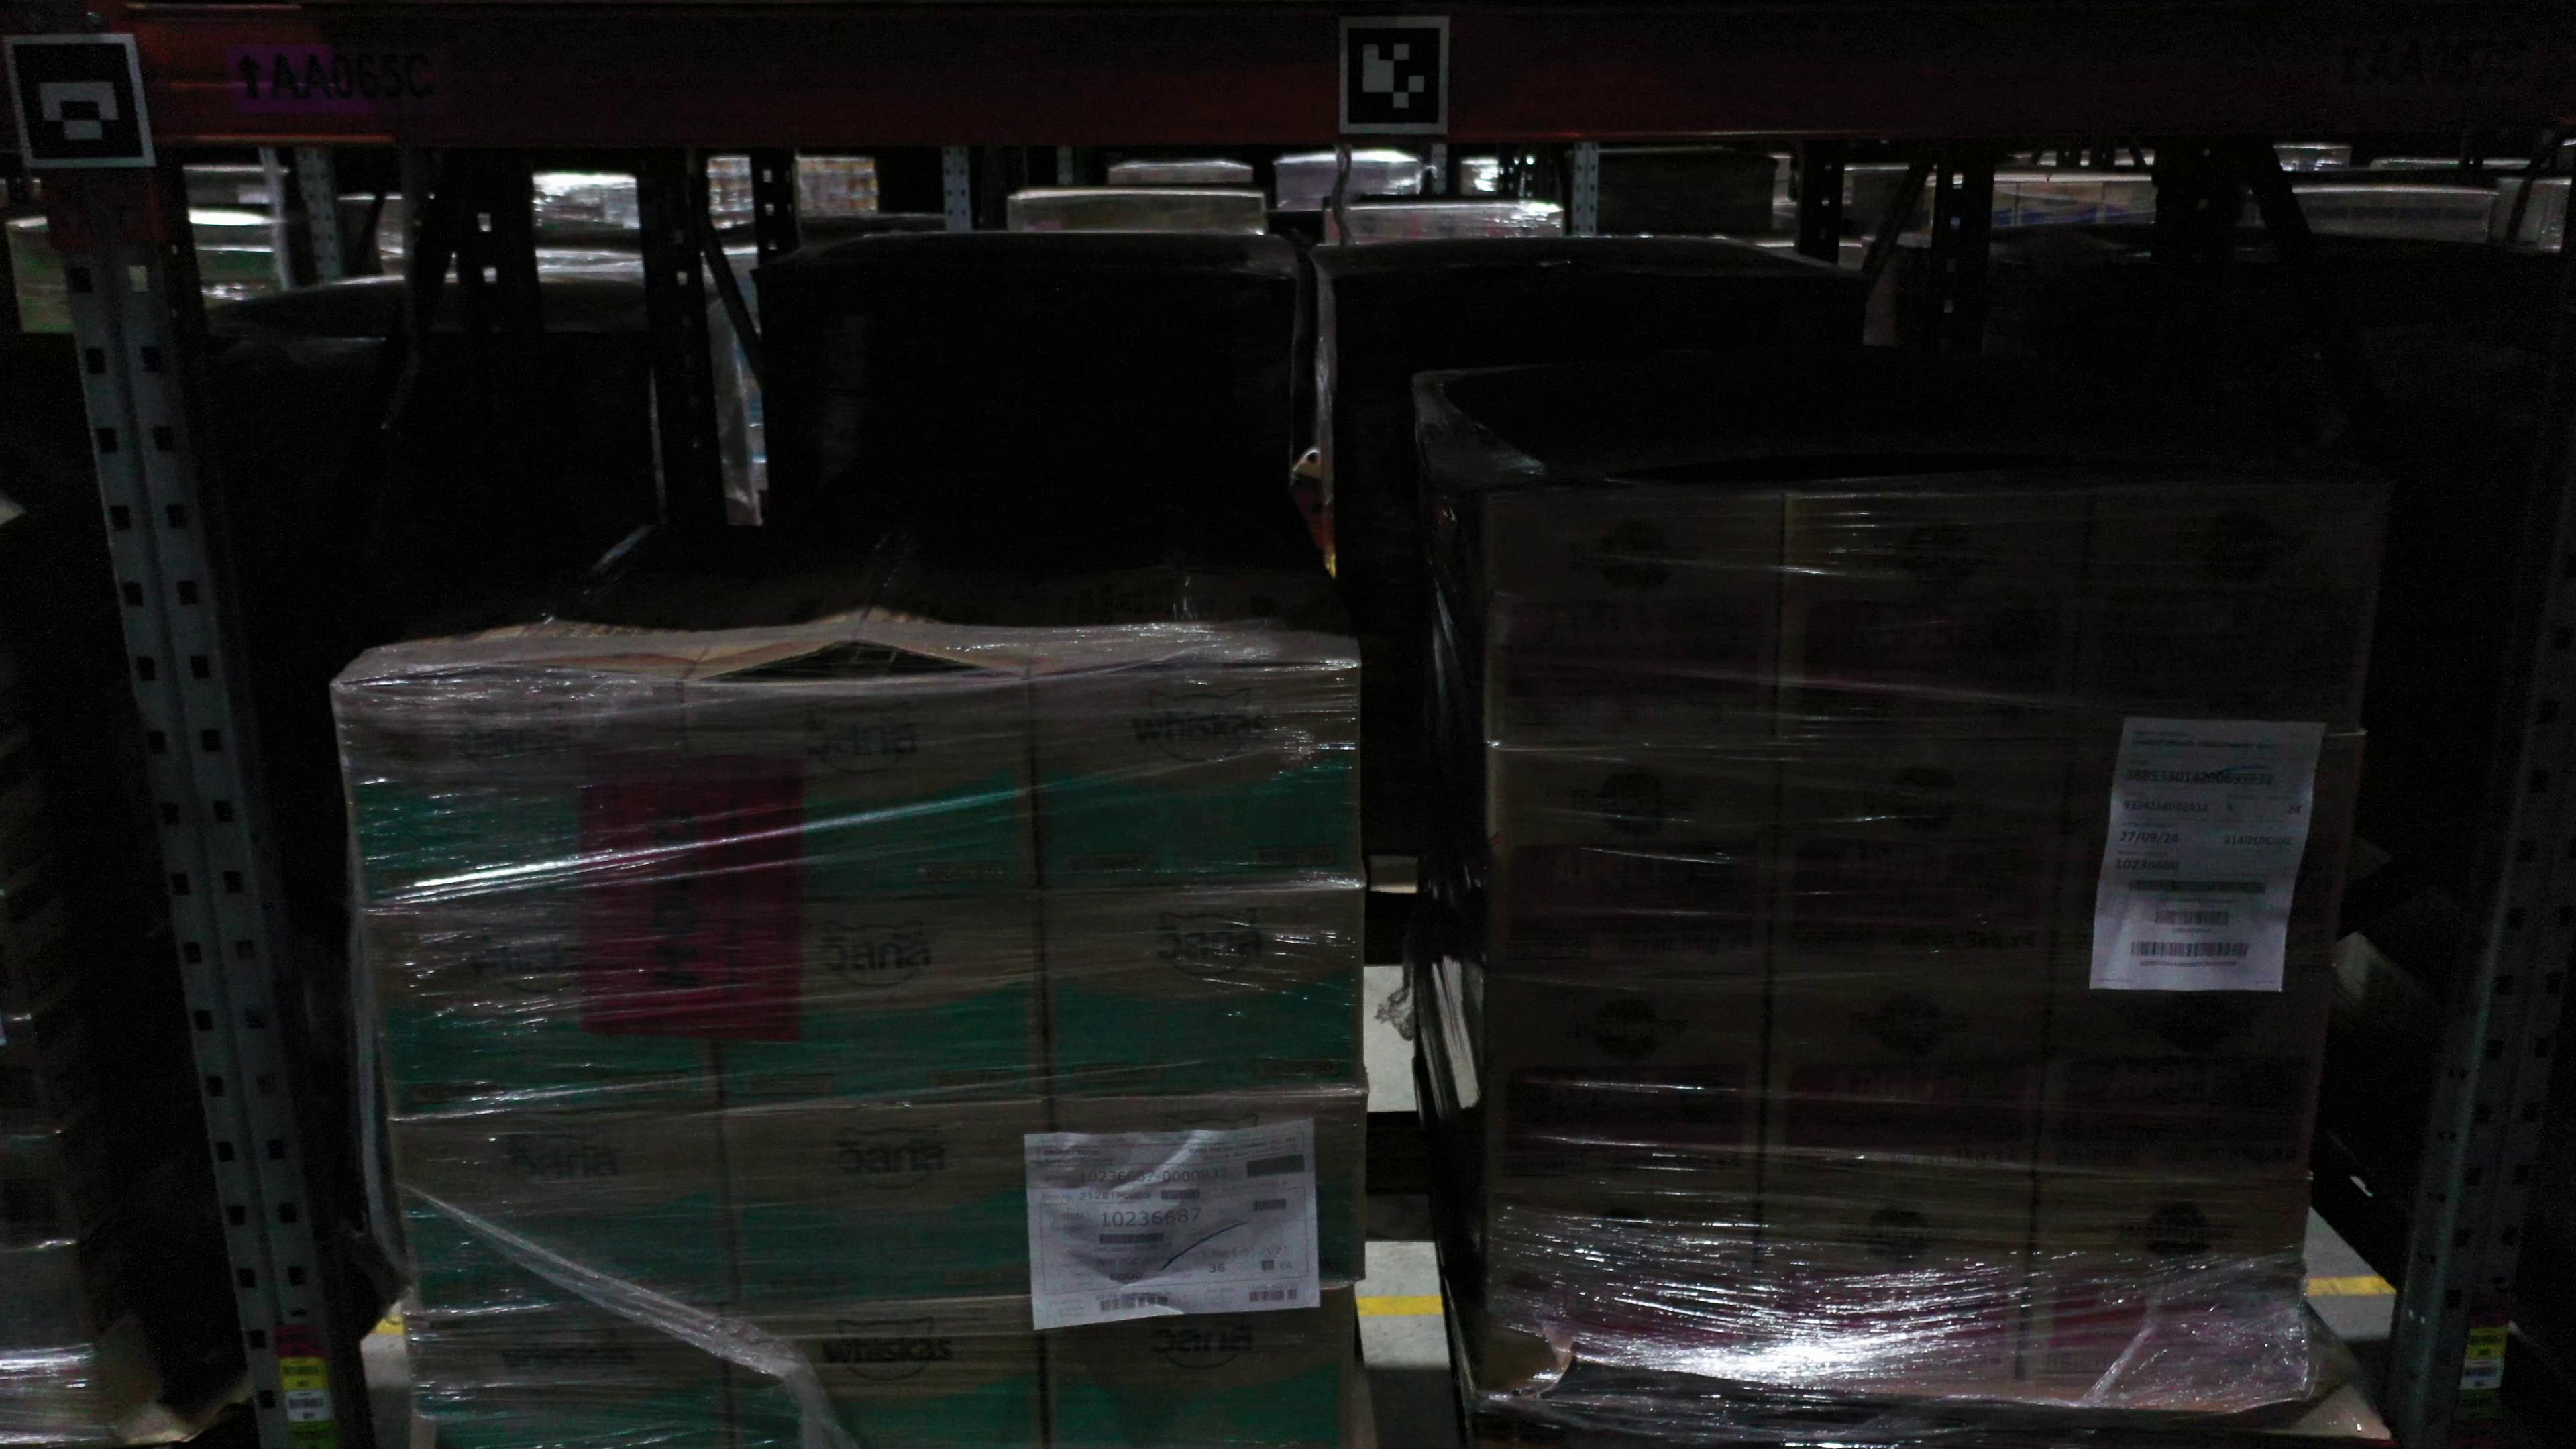-: (338, 678, 697, 913), (685, 671, 1037, 904), (2077, 481, 2383, 743), (1785, 492, 2091, 748), (1486, 499, 1787, 752), (1033, 669, 1362, 899), (702, 899, 1044, 1116), (370, 909, 720, 1120), (2052, 738, 2362, 975), (1035, 888, 1362, 1109), (1766, 747, 2075, 977), (1486, 748, 1780, 982), (718, 1109, 1051, 1313), (393, 1125, 734, 1316), (2036, 968, 2330, 1189), (1049, 1093, 1366, 1295), (1762, 977, 2052, 1196), (2022, 1192, 2307, 1415), (1490, 975, 1764, 1192), (1755, 1192, 2033, 1396), (1486, 1194, 1757, 1389), (1047, 1283, 1355, 1449), (720, 1302, 1053, 1449), (409, 1315, 731, 1449), (0, 1348, 110, 1444), (0, 1246, 87, 1350), (0, 1136, 76, 1247)
